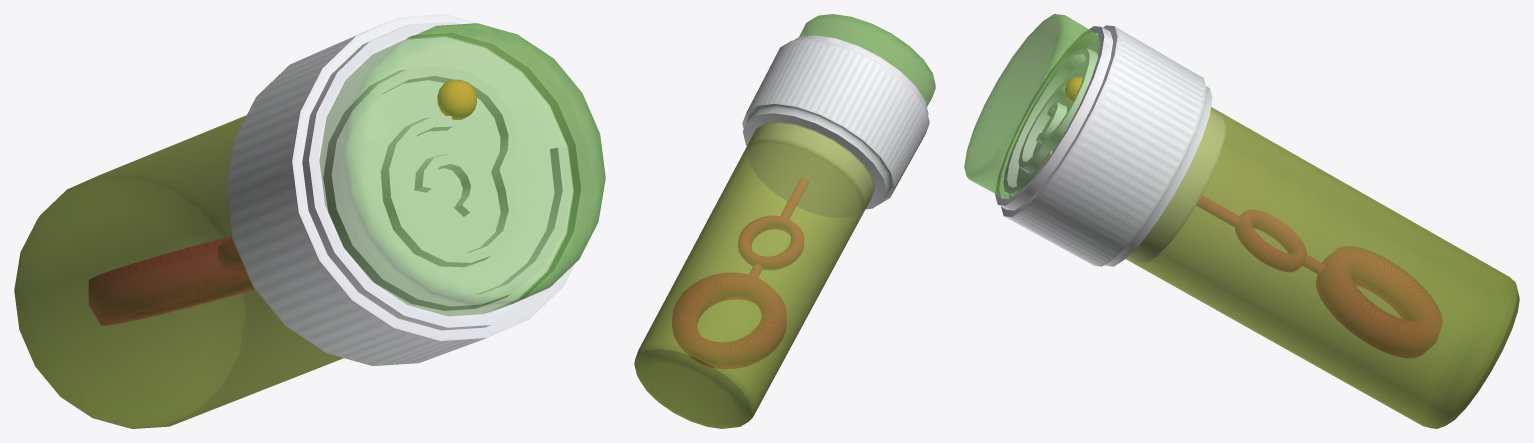
Rendered from ref_gtbubblewater.glb.
The picture shows the model from 3 angles, left to right: view 1: azimuth 30°, elevation 25°; view 2: azimuth 150°, elevation 25°; view 3: azimuth 270°, elevation 25°; orthographic projection. The views are drawn at different scales.
Parts seen in each view (by area): view 1: ref_gtbubblewater_part1, ref_gtbubblewater_part2, ref_gtbubblewater_part0, ref_gtbubblewater_part3; view 2: ref_gtbubblewater_part1, ref_gtbubblewater_part0, ref_gtbubblewater_part2, ref_gtbubblewater_part3; view 3: ref_gtbubblewater_part1, ref_gtbubblewater_part0, ref_gtbubblewater_part2, ref_gtbubblewater_part3.
Part boxes in pixels (<box>): ref_gtbubblewater_part1: <box>14,23,605,428</box>; ref_gtbubblewater_part2: <box>226,14,593,365</box>; ref_gtbubblewater_part0: <box>14,116,343,428</box>; ref_gtbubblewater_part3: <box>89,236,254,325</box>; ref_gtbubblewater_part1: <box>634,14,935,428</box>; ref_gtbubblewater_part0: <box>634,122,874,428</box>; ref_gtbubblewater_part2: <box>742,35,929,218</box>; ref_gtbubblewater_part3: <box>672,178,808,368</box>; ref_gtbubblewater_part1: <box>964,14,1519,428</box>; ref_gtbubblewater_part0: <box>1126,107,1519,428</box>; ref_gtbubblewater_part2: <box>995,25,1226,266</box>; ref_gtbubblewater_part3: <box>1196,195,1442,357</box>.
Size of the model in its own units: 0.3967 by 0.7882 by 1.
Materials: 4 (4 with a texture image).
